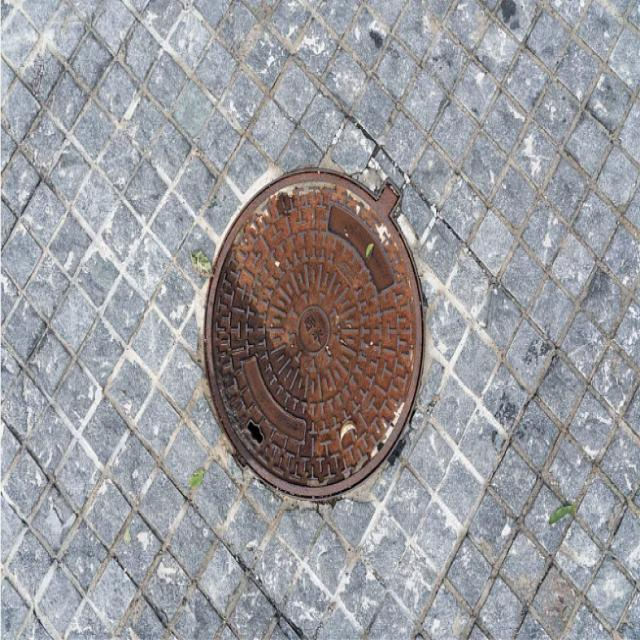manhole: (205, 170, 422, 498)
